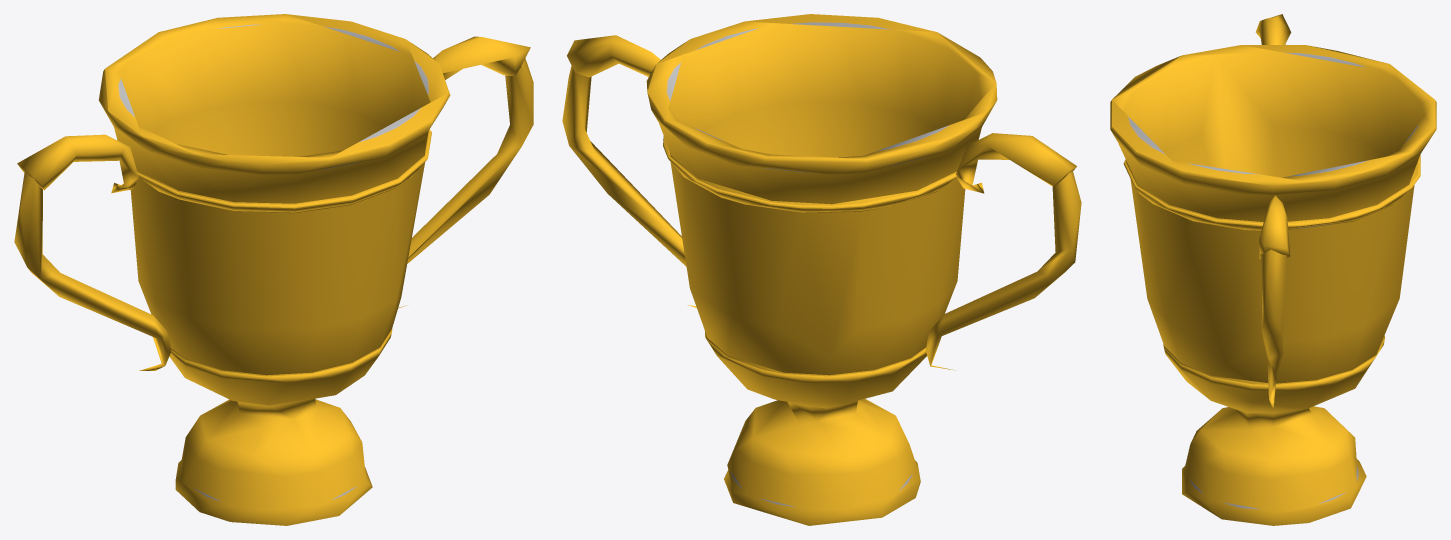
File: trophy-reduced.glb
3 views of the same model, side by side, from view 1: azimuth 30°, elevation 25°; view 2: azimuth 150°, elevation 25°; view 3: azimuth 270°, elevation 25° (orthographic). The views are drawn at different scales.
Visible parts, largest first — view 1: JinBei_001; view 2: JinBei_001; view 3: JinBei_001.
Boxes of the visible parts, box(x1,y1,x2,y2) form: JinBei_001: box(14, 14, 533, 525); JinBei_001: box(562, 14, 1081, 525); JinBei_001: box(1110, 14, 1436, 525).
Size of the model in its own units: 6 by 4.43 by 3.5.
Materials: 1 (1 with a texture image).
